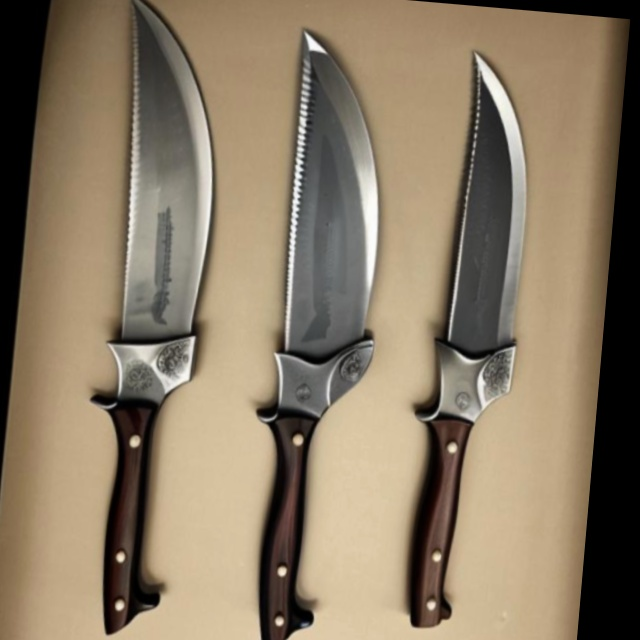Sharp-Object: (227, 18, 409, 640), (62, 0, 237, 640), (386, 43, 547, 640)
